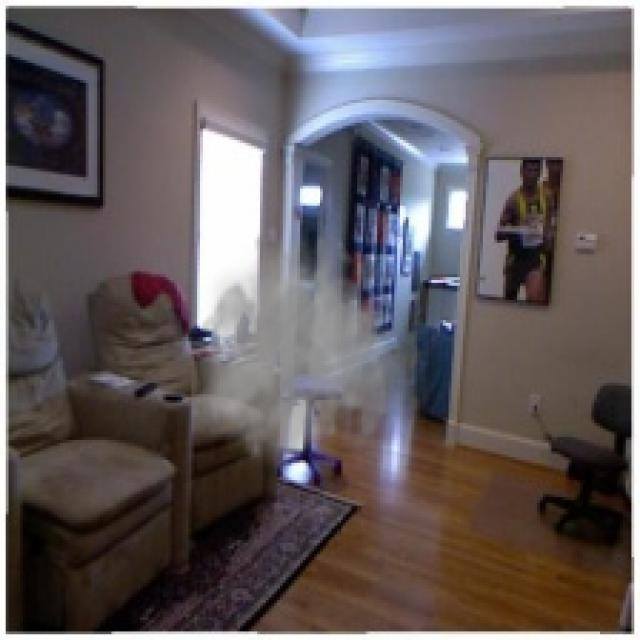Smoke: (192, 226, 408, 474)
